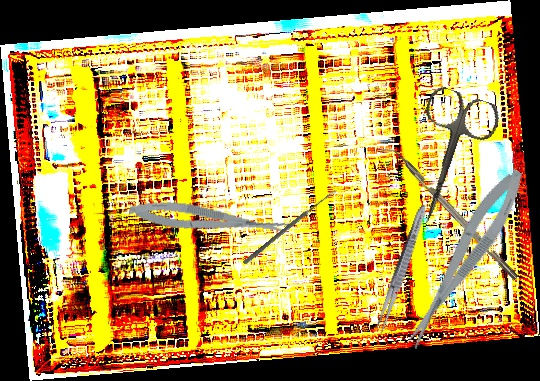Chopper: (381, 141, 519, 287)
Dressing Forceps: (373, 202, 430, 337)
Iris Scissors: (391, 83, 504, 234)
Micro Scissor: (392, 162, 535, 354), (127, 195, 292, 245)
Surgical Spoon: (242, 187, 338, 266)
